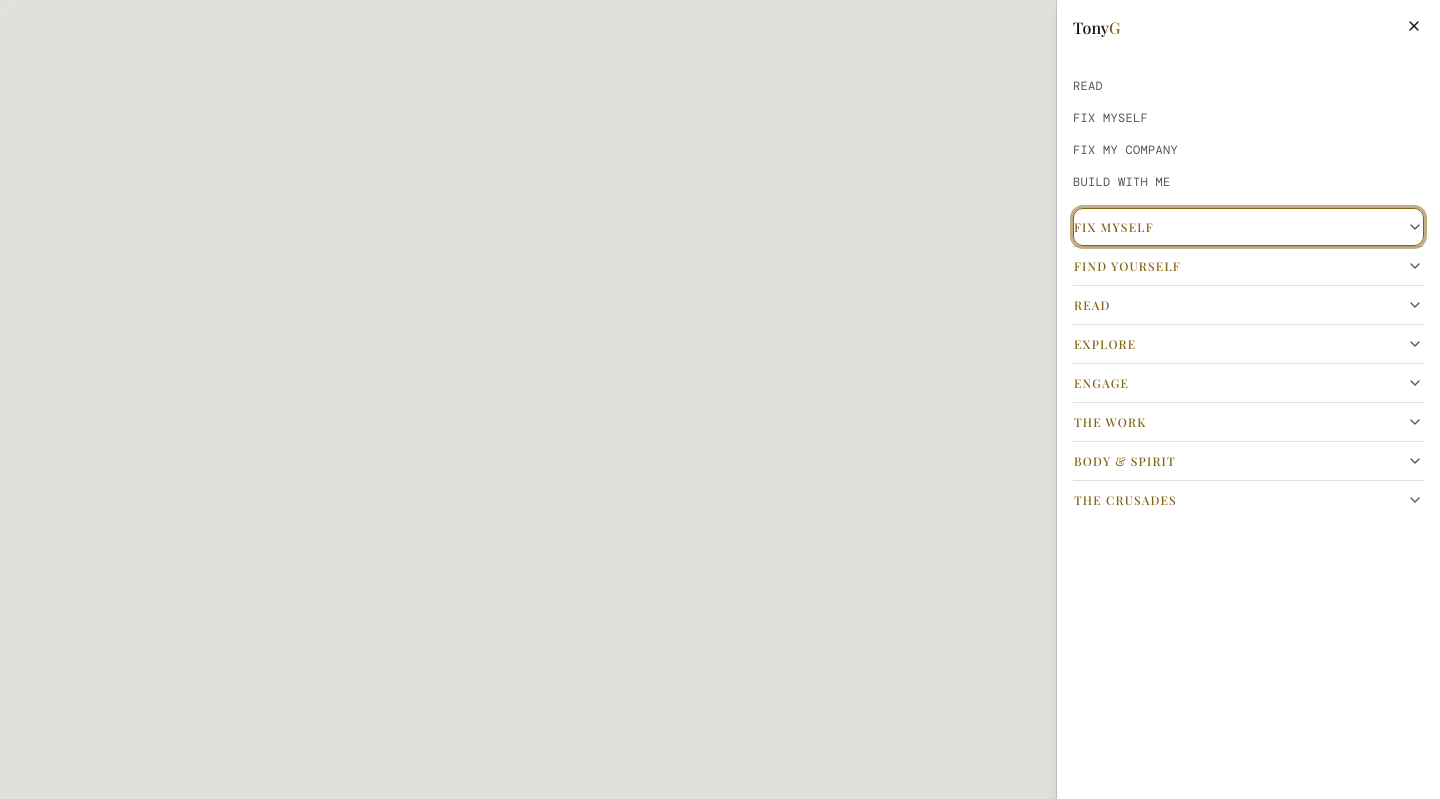
Test: MobileMenu › opens a category to reveal its links
Click the button "Fix Myself" at point(1114, 227), box [1073,208,1424,246]
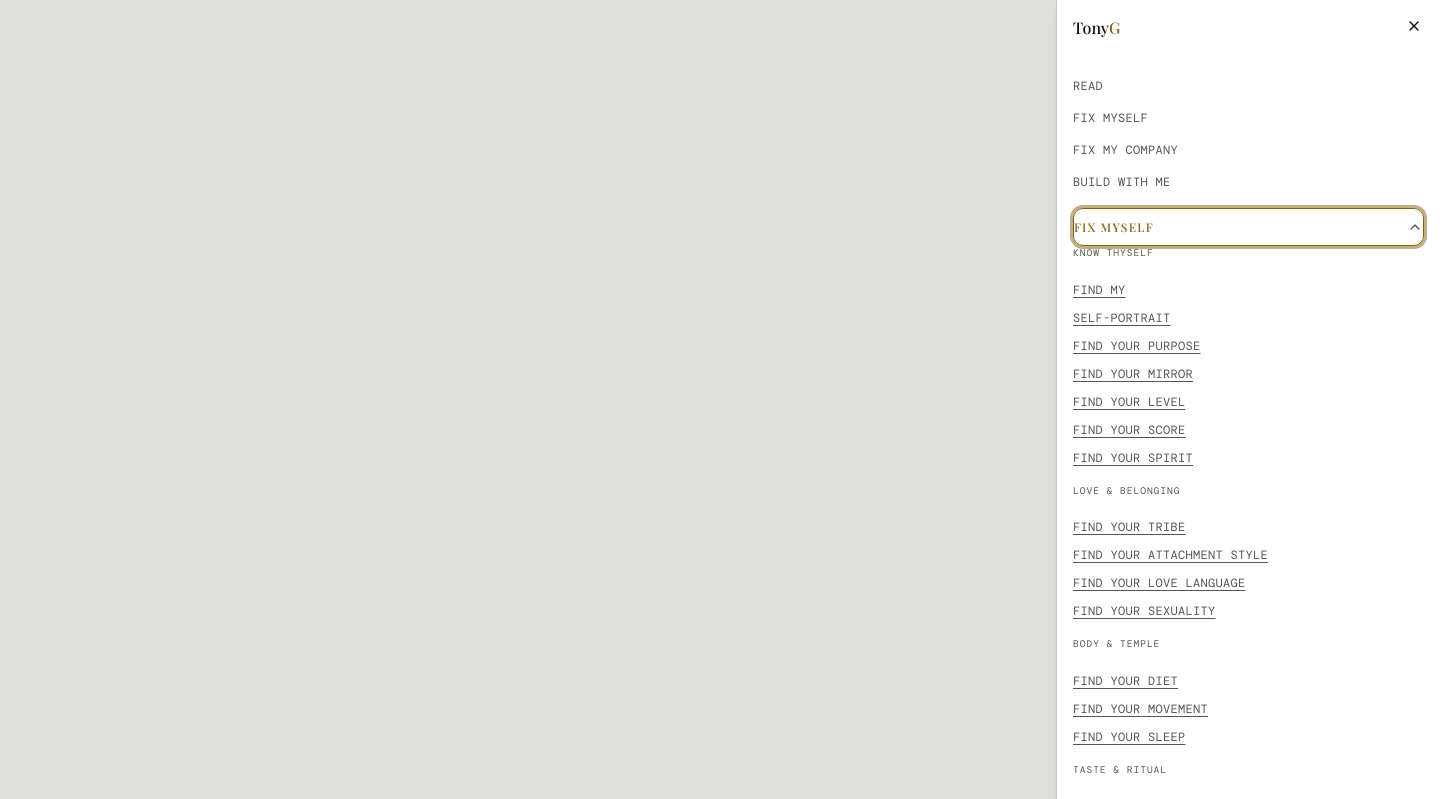
Expected: the text "Know Thyself" is shown, [1073,246,1154,259]
